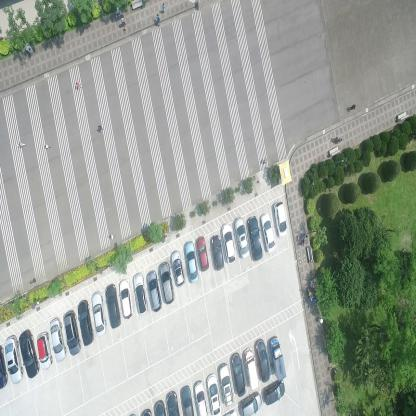car: (18, 330, 40, 380), (62, 310, 82, 356), (5, 336, 24, 384), (76, 298, 94, 346), (269, 334, 287, 382), (49, 318, 67, 364), (254, 338, 272, 383), (247, 214, 263, 263), (105, 283, 121, 331), (221, 221, 238, 265), (91, 290, 107, 336), (243, 345, 259, 391), (233, 215, 250, 258), (230, 352, 246, 397), (132, 271, 148, 315), (218, 362, 234, 406), (207, 371, 223, 415), (158, 261, 174, 304), (184, 239, 199, 284), (260, 212, 276, 254), (146, 268, 161, 312), (118, 278, 133, 321), (37, 332, 53, 372), (170, 248, 186, 286), (193, 380, 209, 415), (195, 233, 209, 272), (210, 233, 224, 271), (264, 380, 285, 405), (238, 392, 260, 415), (273, 202, 287, 238), (181, 383, 195, 415), (0, 343, 8, 391), (166, 389, 179, 415)
